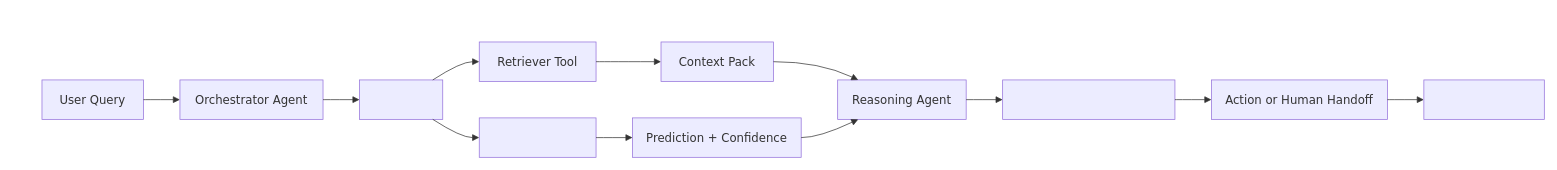
Image size: 1557x170. Some labels were removed from this diagram. Here are the shapes that lost their labels. From the top down, the centre of each, then its label:
the point at 401,99: Planner
the point at 1088,99: Validation/Policy Checks
the point at 1483,99: Final Response
the point at 537,137: ML Model Tool
